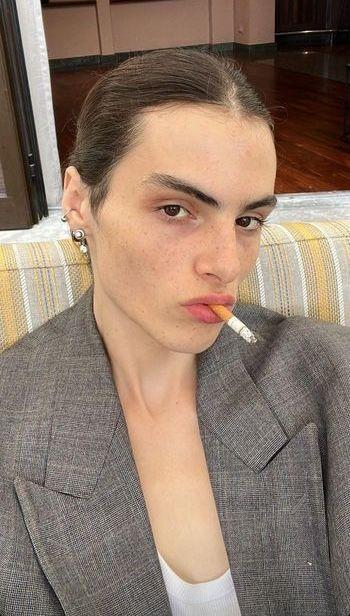cigarette: (207, 303, 258, 345)
